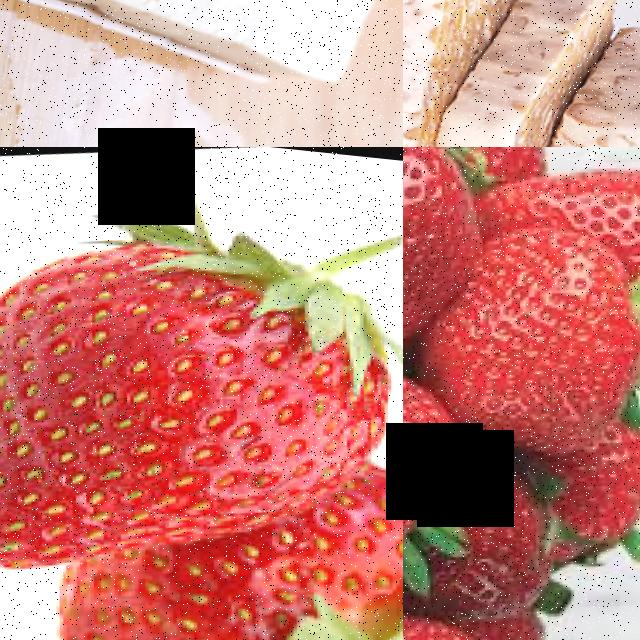strawberry: (0, 177, 403, 602), (50, 500, 403, 640), (462, 206, 640, 427), (403, 318, 469, 582), (403, 147, 500, 312), (545, 420, 640, 562), (403, 595, 535, 640)
tempeh: (425, 60, 573, 147), (403, 0, 544, 70)
